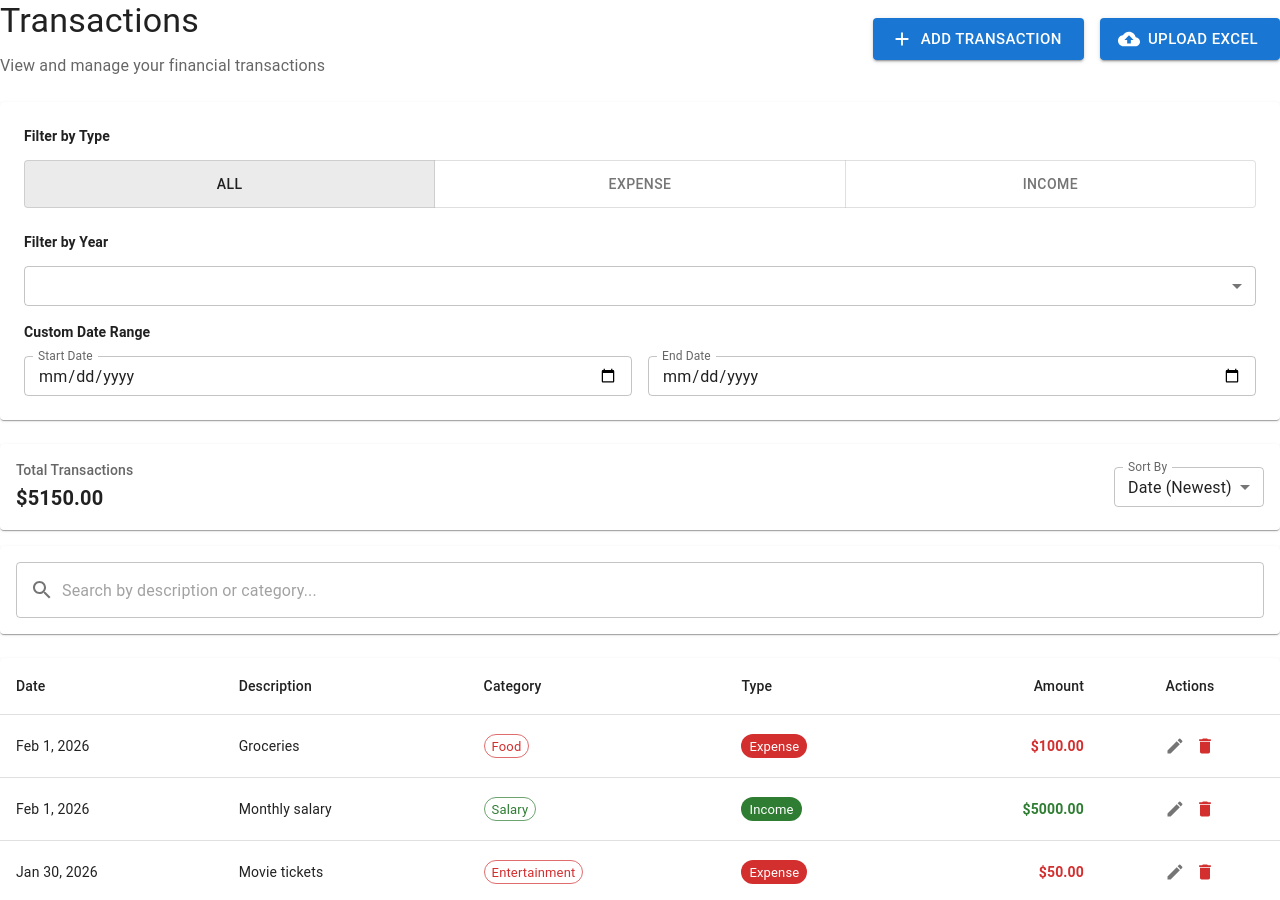
Test: Transactions Component › Edit Transaction › opens edit dialog when edit button is clicked
Expected: the text "Groceries" is shown, [223,715,468,778]
# Find and click the edit button for the first transaction
Click the button named "edit" in the row of "Groceries" at (1175, 746), box [1160,731,1190,761]
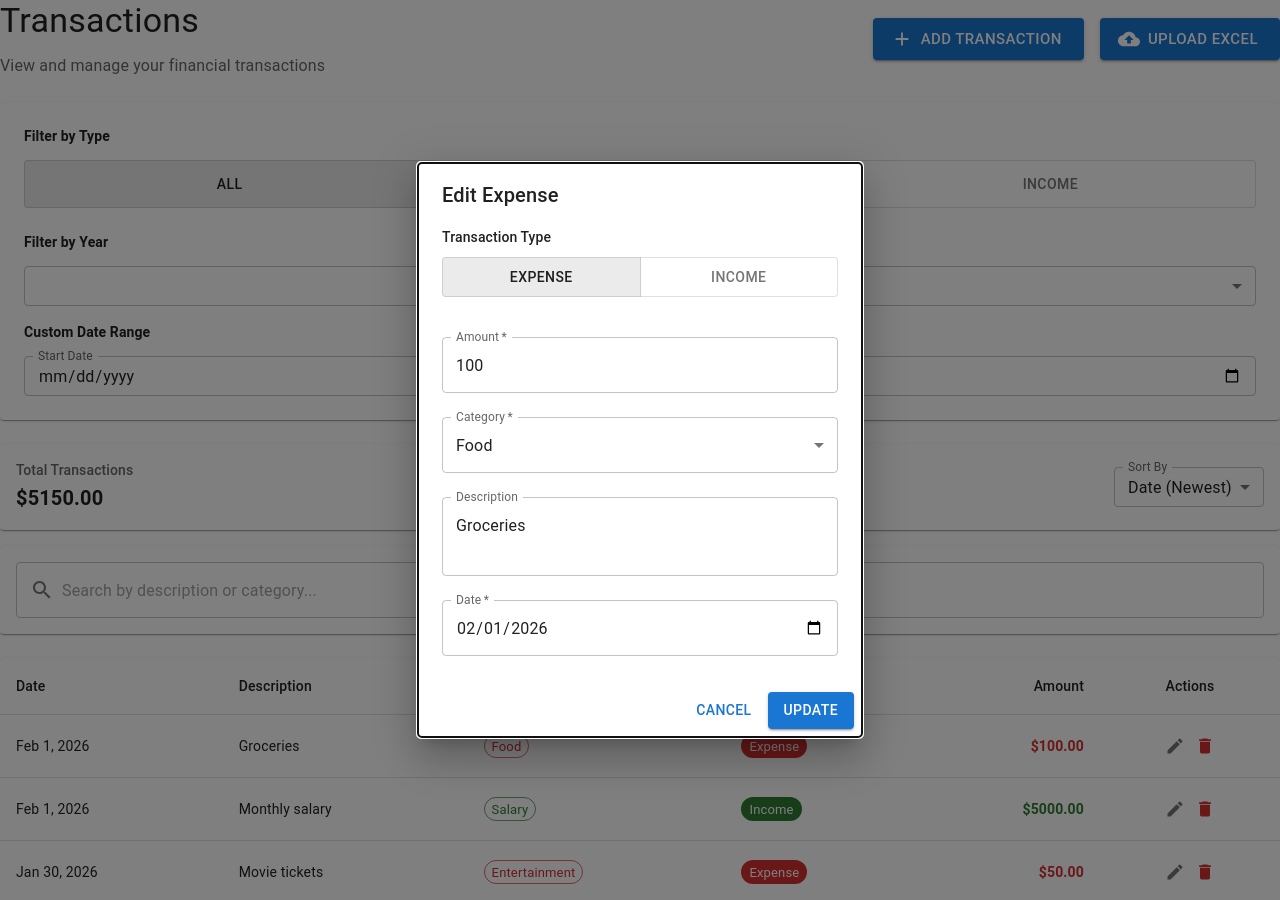
Expected: the dialog is shown, [418,163,862,737]
